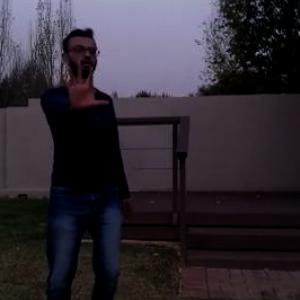follow_hand: (57, 58, 110, 112)
